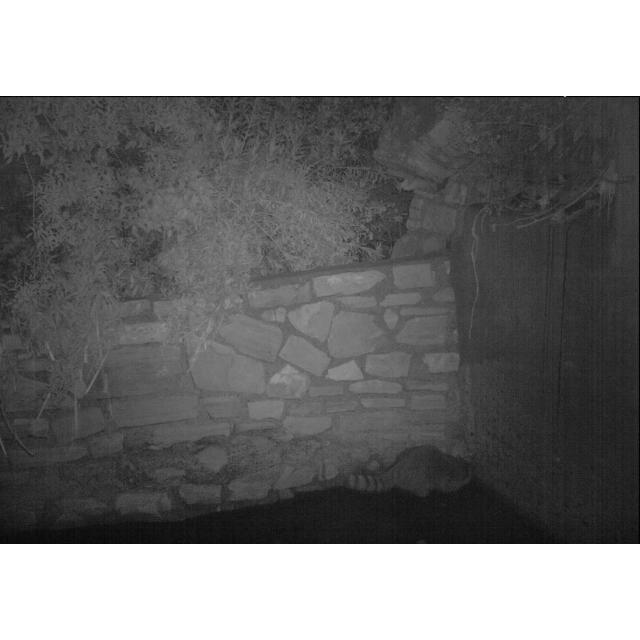animals: (342, 438, 478, 498)
